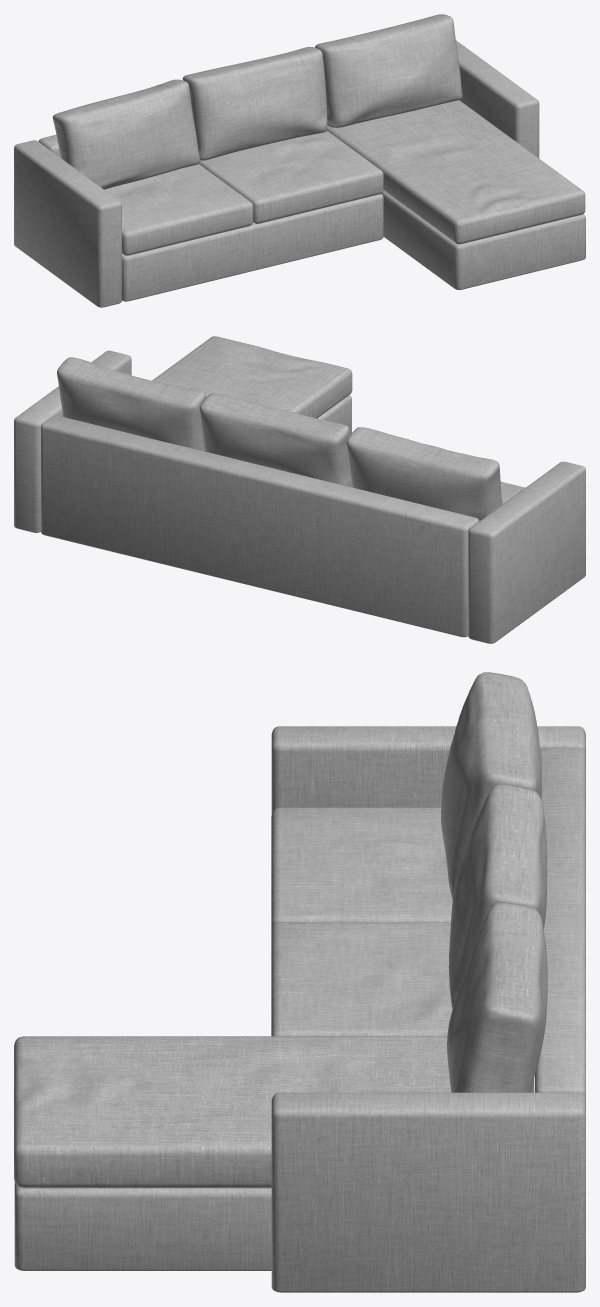
3 renders of one model, top to bottom at view 1: azimuth 30°, elevation 25°; view 2: azimuth 150°, elevation 25°; view 3: azimuth 270°, elevation 25°, orthographic. The views are drawn at different scales.
Visible parts, largest first — view 1: Object_129; view 2: Object_129; view 3: Object_129.
Part boxes in pixels (box(x1,y1,x2,y2)): Object_129: box(14, 14, 585, 307); Object_129: box(14, 336, 585, 643); Object_129: box(14, 672, 585, 1292).
Bounding box in the file's own units: 2.46 × 0.7738 × 1.53.
1 material, 1 textured.
